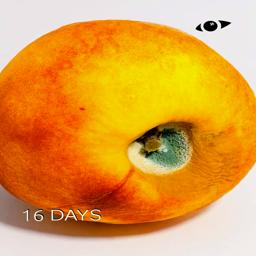Peach Overripe: (0, 14, 256, 228)
